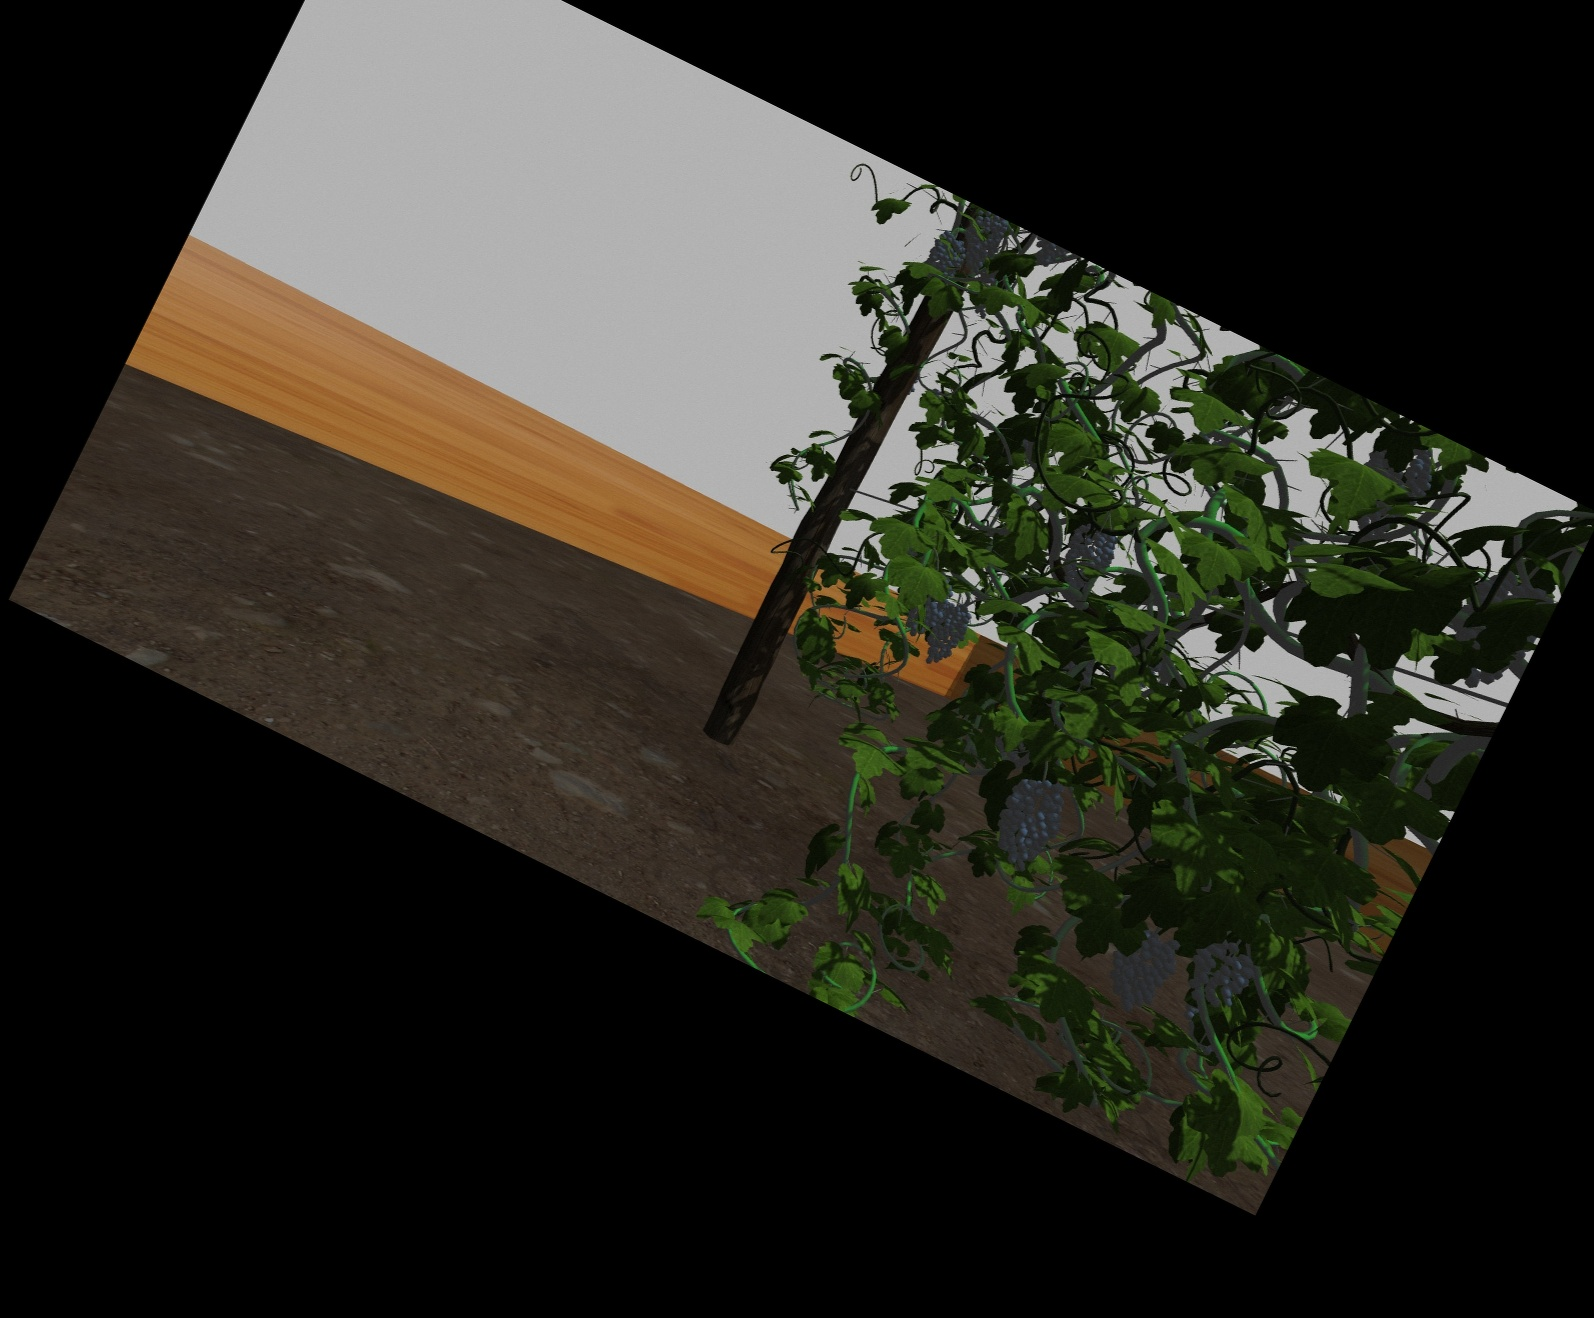grape: (1000, 778, 1056, 864), (1109, 932, 1169, 1006), (1189, 944, 1248, 1004), (1064, 531, 1109, 588), (927, 602, 961, 663), (962, 218, 1000, 274), (929, 236, 961, 271)
